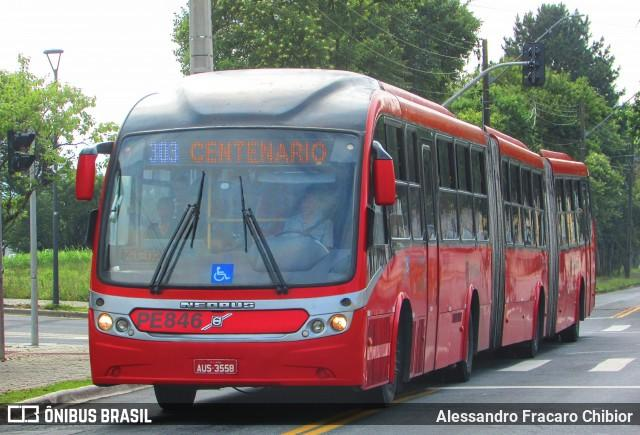CENTENARIO: (185, 136, 333, 167)
